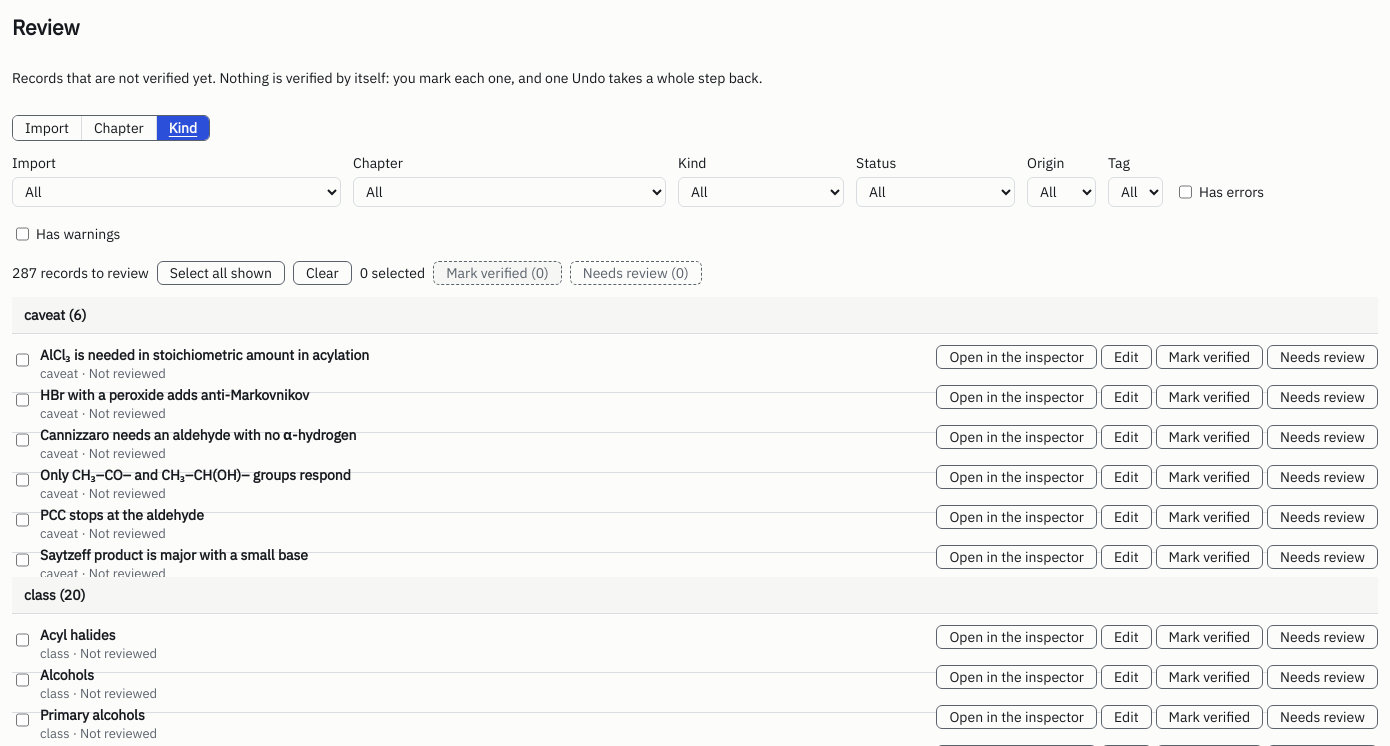
Test: Group by › the Import filter lists each import with its count and narrows the list
This screenshot has width=1390, height=746.
Select "second.orn.json · imported on 2026-10-02 (1)" in the dropdown labelled "Import" at (176,192), box [12, 177, 341, 207]
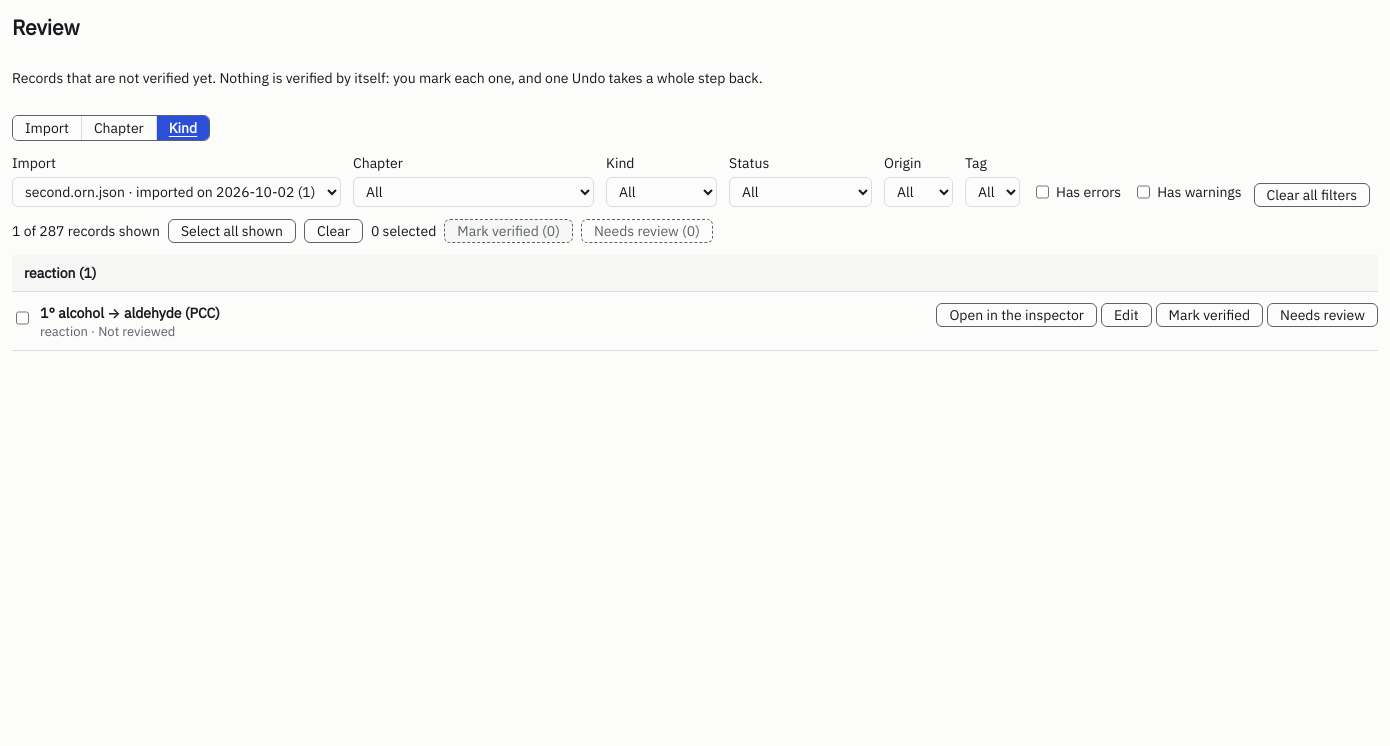
expect the text "1 of 287 records shown" is shown: met, box [12, 221, 160, 241]
